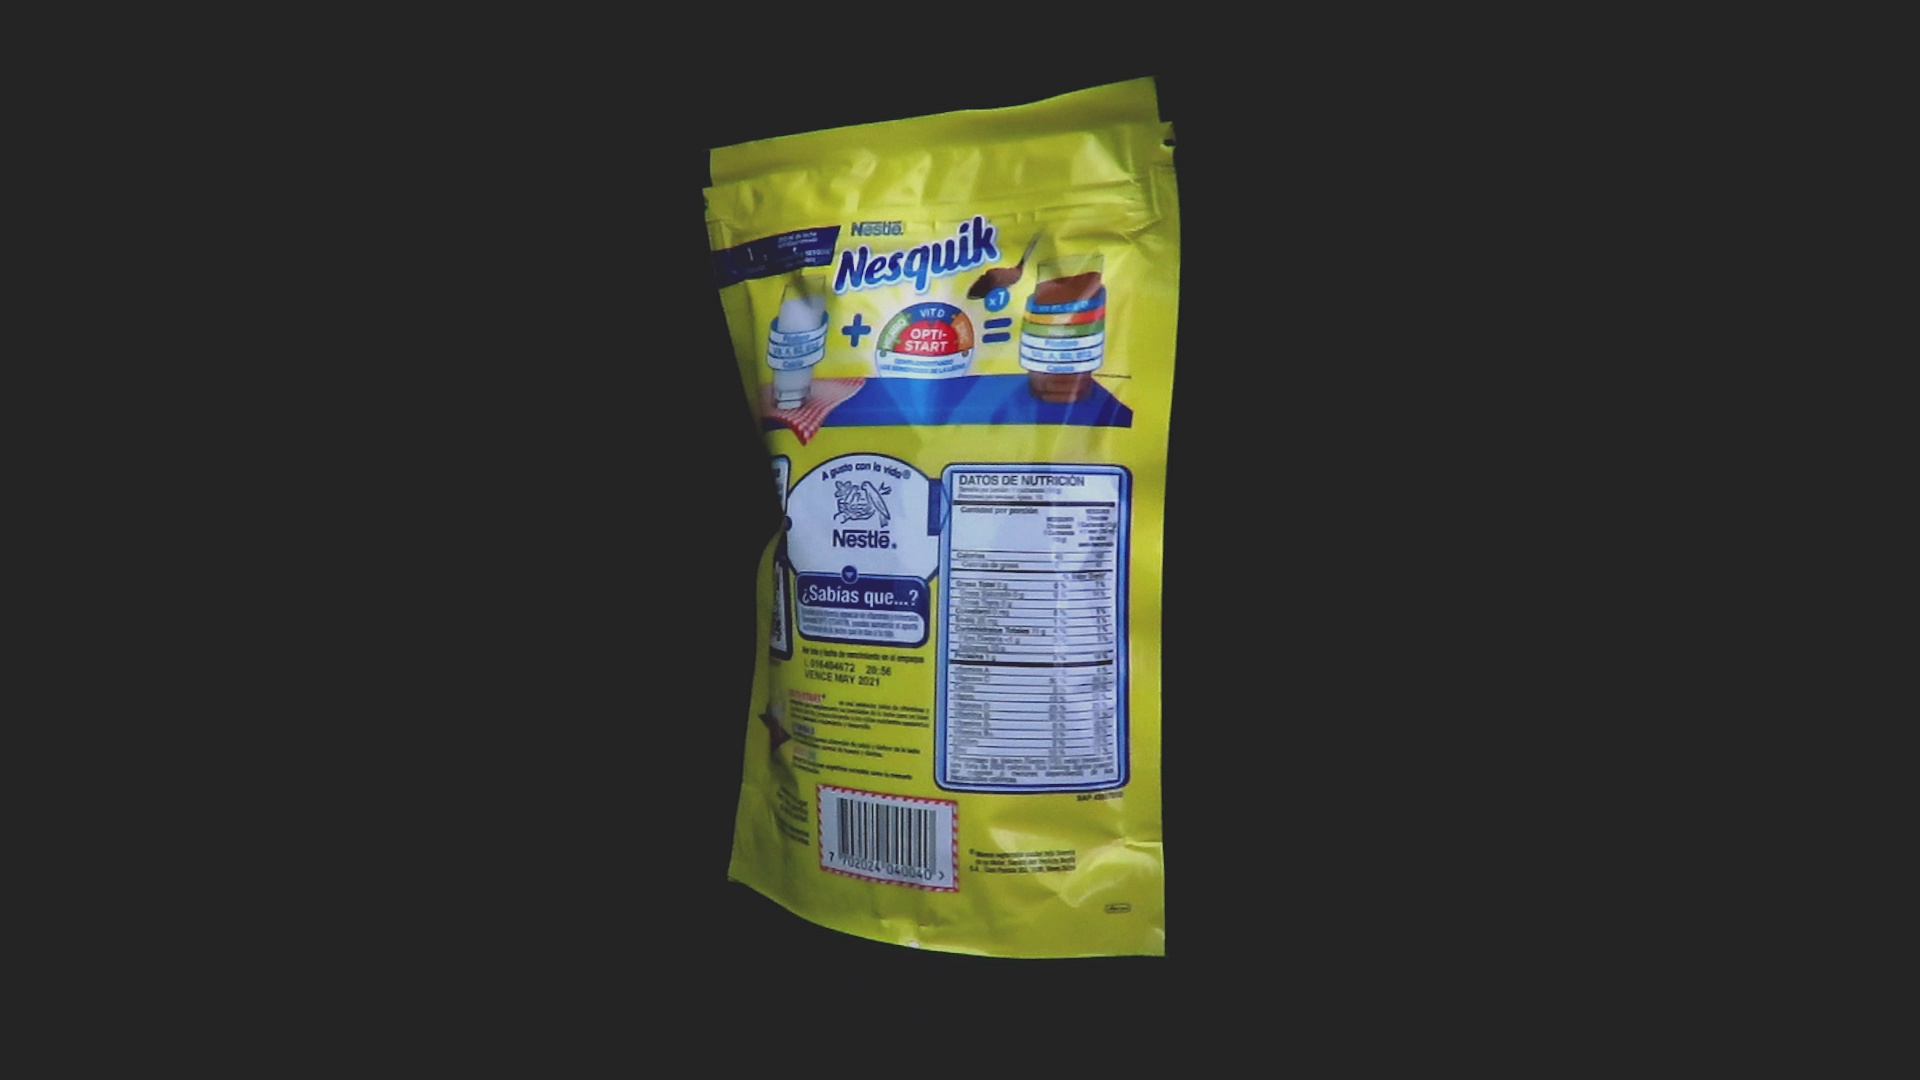COL0170303DYP20000: (698, 71, 1187, 965)
